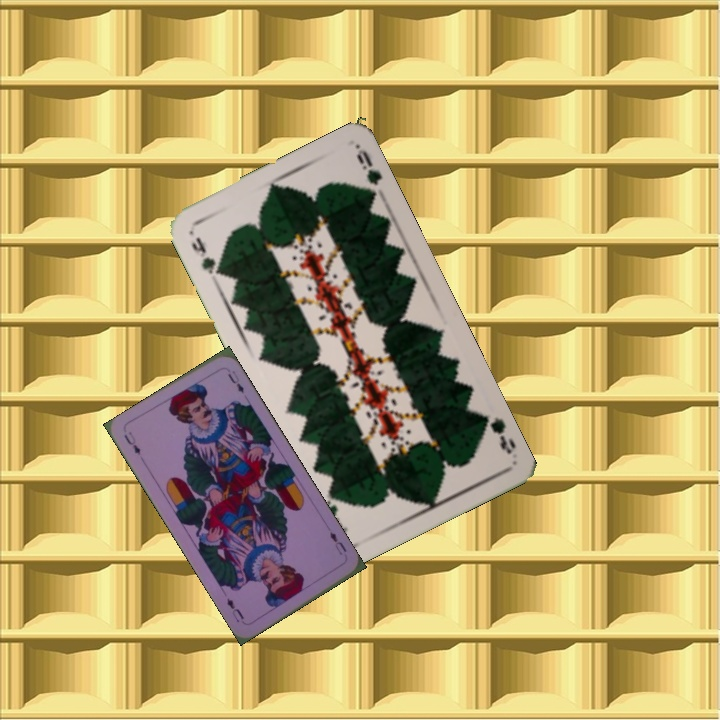EU: (324, 527, 349, 558), (120, 427, 143, 458)
G9: (474, 409, 519, 457), (187, 233, 226, 279)
